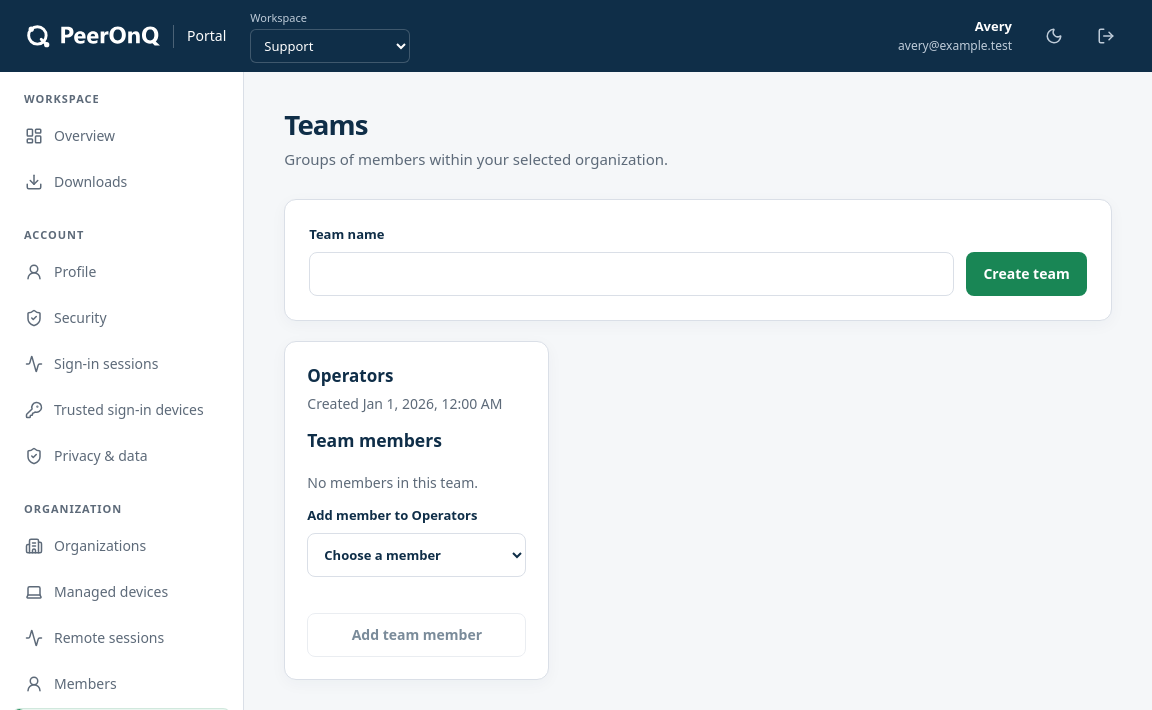
Test case: organization lifecycle › adds an existing organization member to a team and shows authoritative membership
Select "Morgan · morgan@example.test" in the dropdown labelled "Add member to Operators" at [417, 555], box [307,533,526,577]
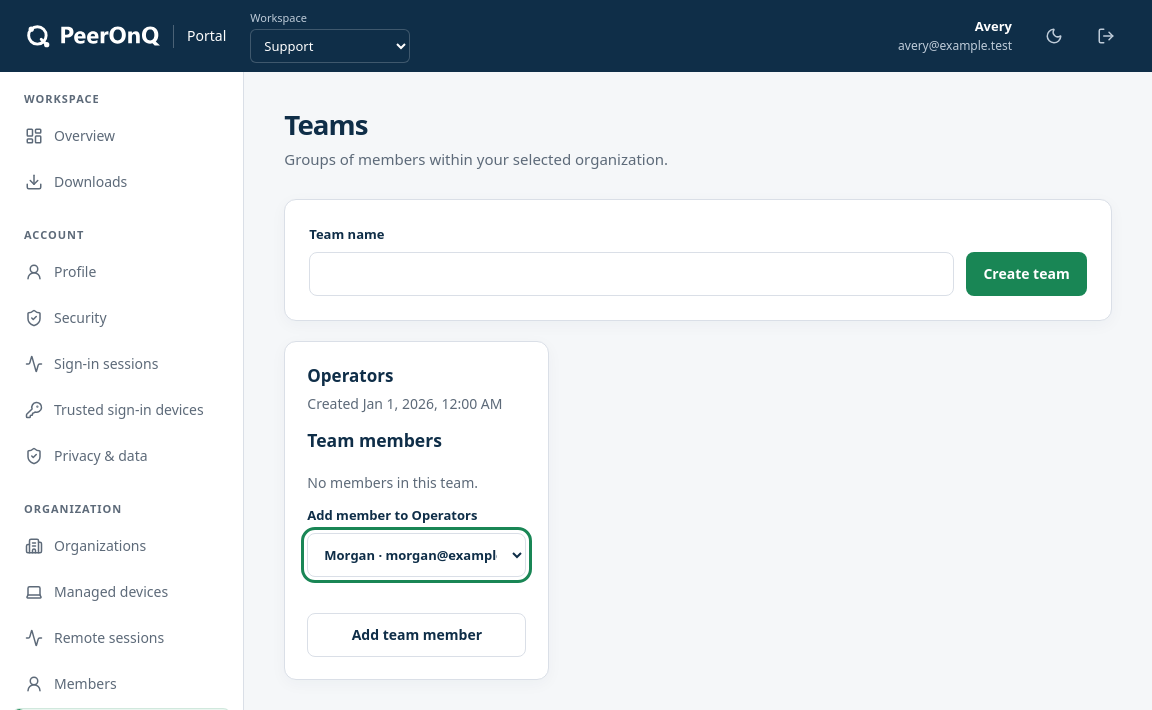
Click the button "Add team member".
click(417, 635)  # box [307,613,526,657]
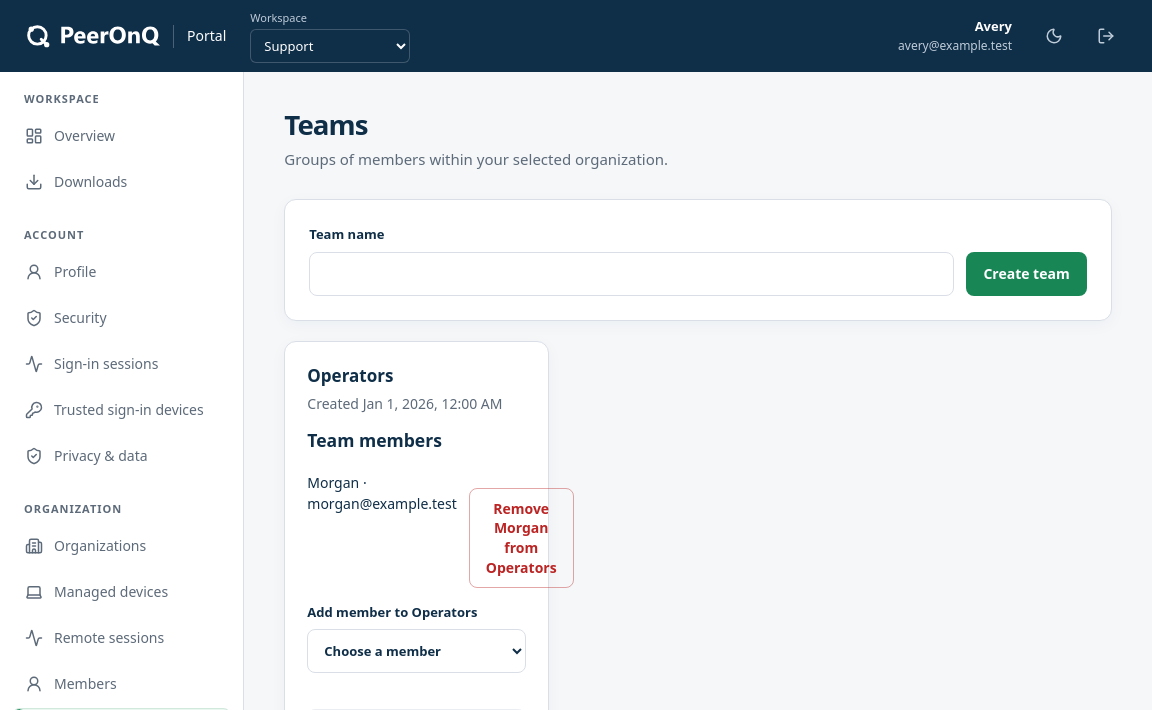
Expected: the button "Remove Morgan from Operators" is shown, [469,488,574,588]
